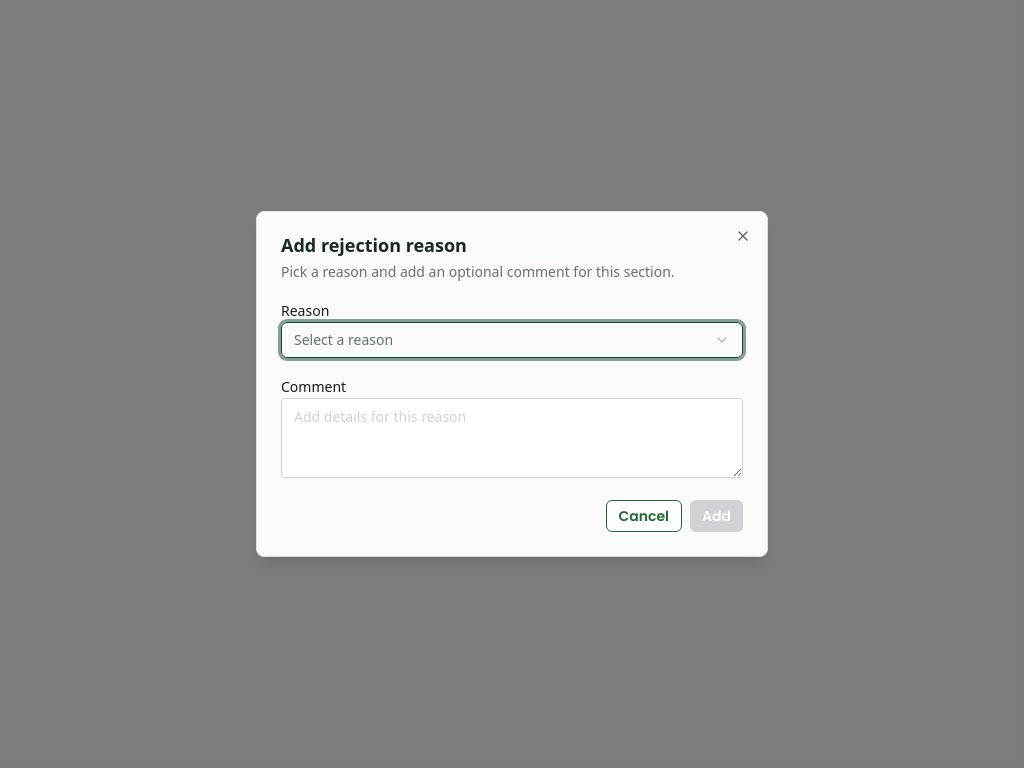
Scenario: RejectionReasonDialog › disables the save button until a reason is selected
Check: the button "Add" is disabled, box x1=690 y1=500 x2=743 y2=532
Click the dropdown.
click(344, 340)  # box x1=281 y1=322 x2=743 y2=358
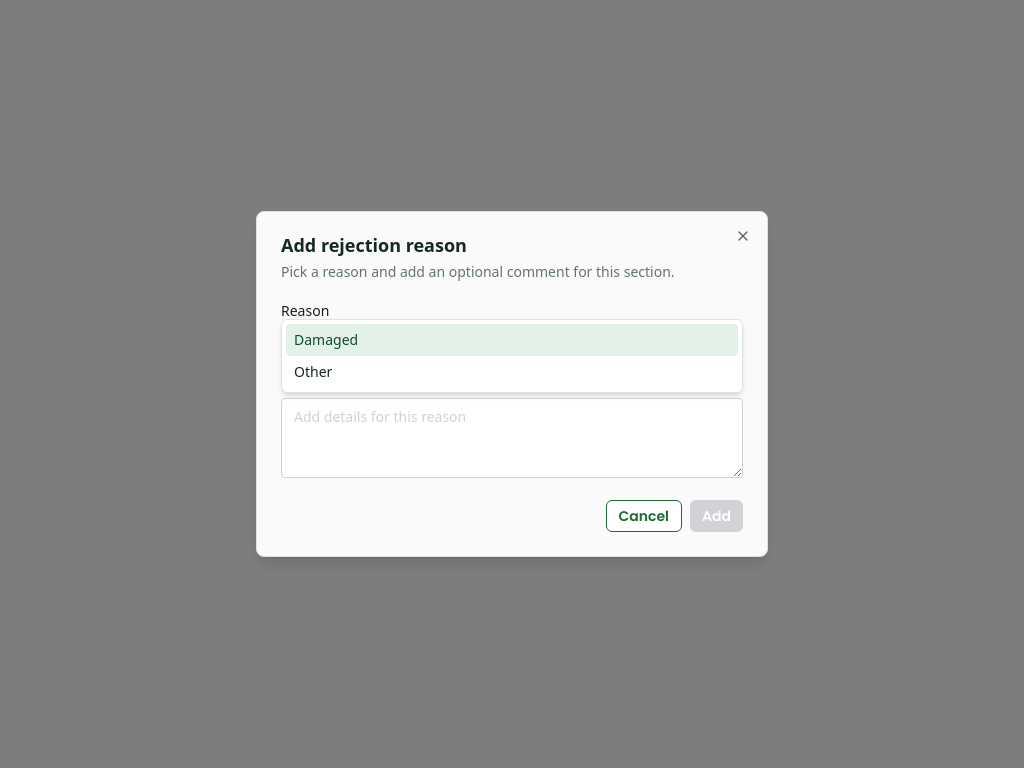
Click the option "Damaged".
click(326, 340)  # box x1=286 y1=324 x2=738 y2=356
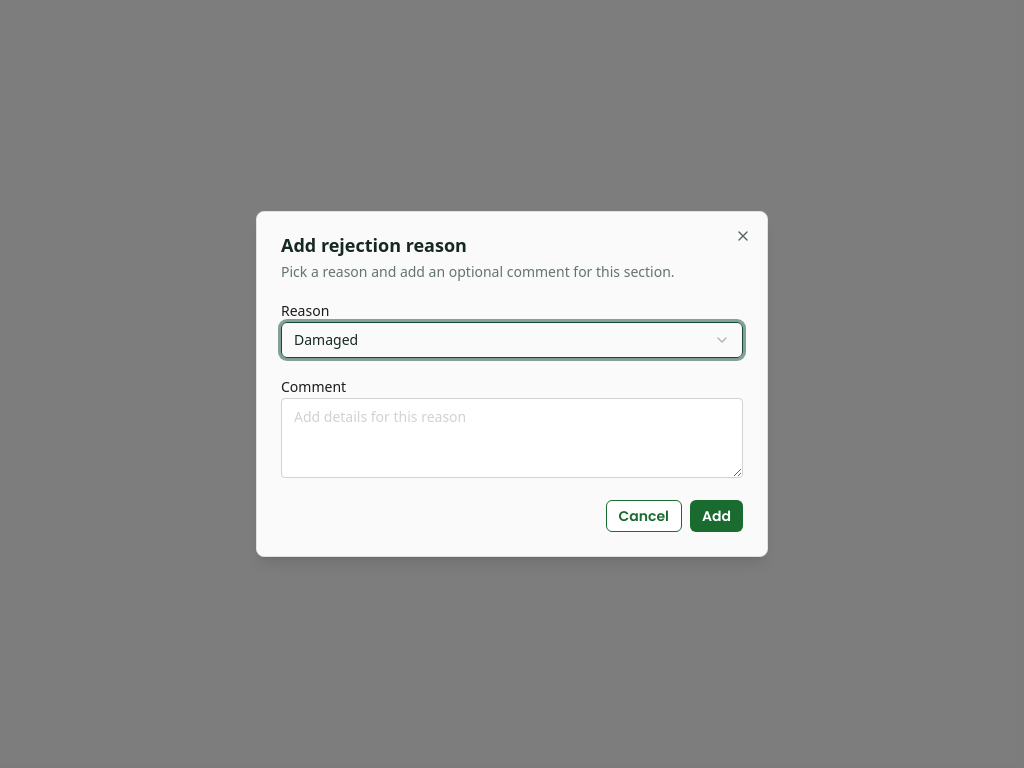
Check: the button "Add" is enabled, box x1=690 y1=500 x2=743 y2=532
